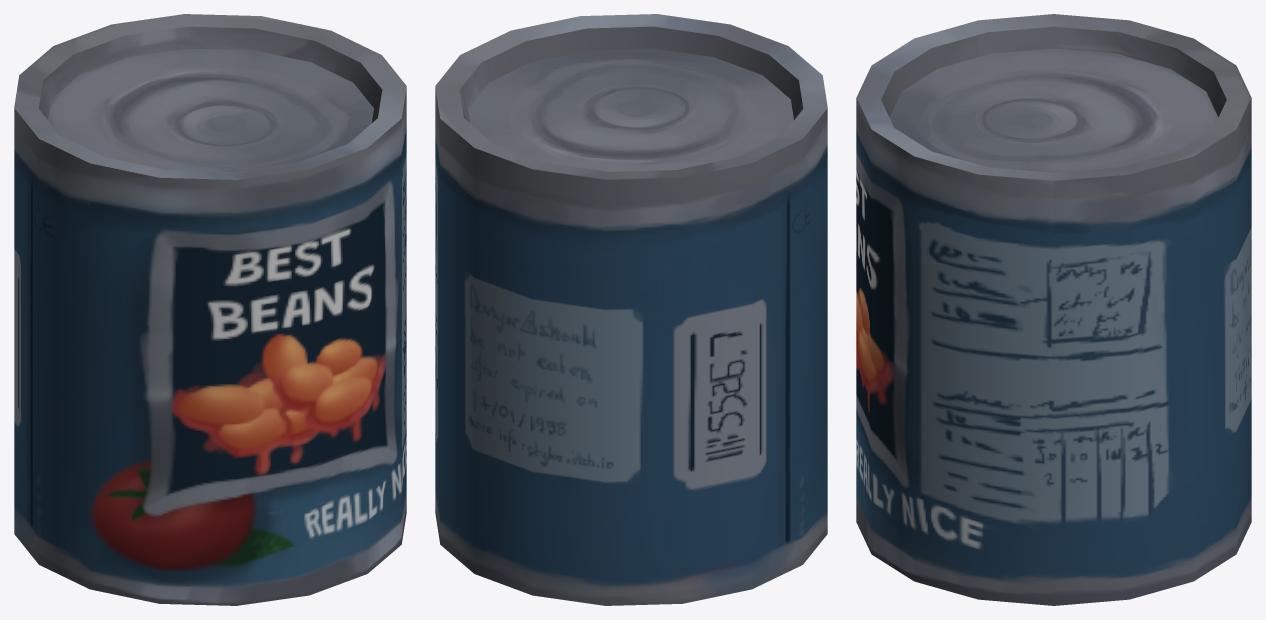
Rendered from beanscan.fbx.
3 renders of one model, left to right at view 1: azimuth 30°, elevation 25°; view 2: azimuth 150°, elevation 25°; view 3: azimuth 270°, elevation 25°, orthographic.
Visible parts, largest first — view 1: beanscan; view 2: beanscan; view 3: beanscan.
Part boxes in pixels (<box>): beanscan: <box>14,14,406,605</box>; beanscan: <box>435,14,827,605</box>; beanscan: <box>856,14,1251,605</box>.
Bounding box in the file's own units: 14.72 × 17.48 × 14.72.
